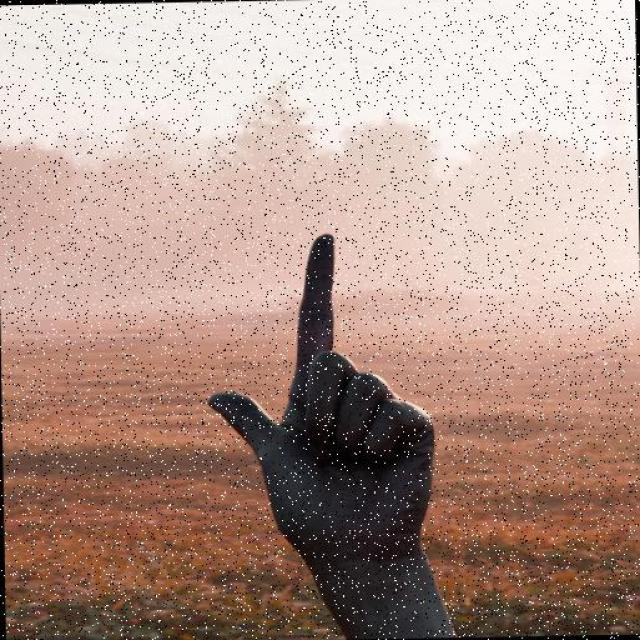L: (182, 207, 482, 614)
